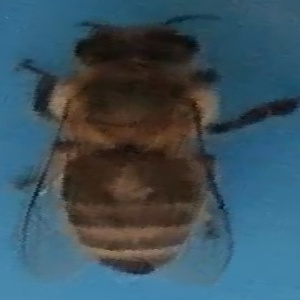bee: (13, 14, 298, 291)
